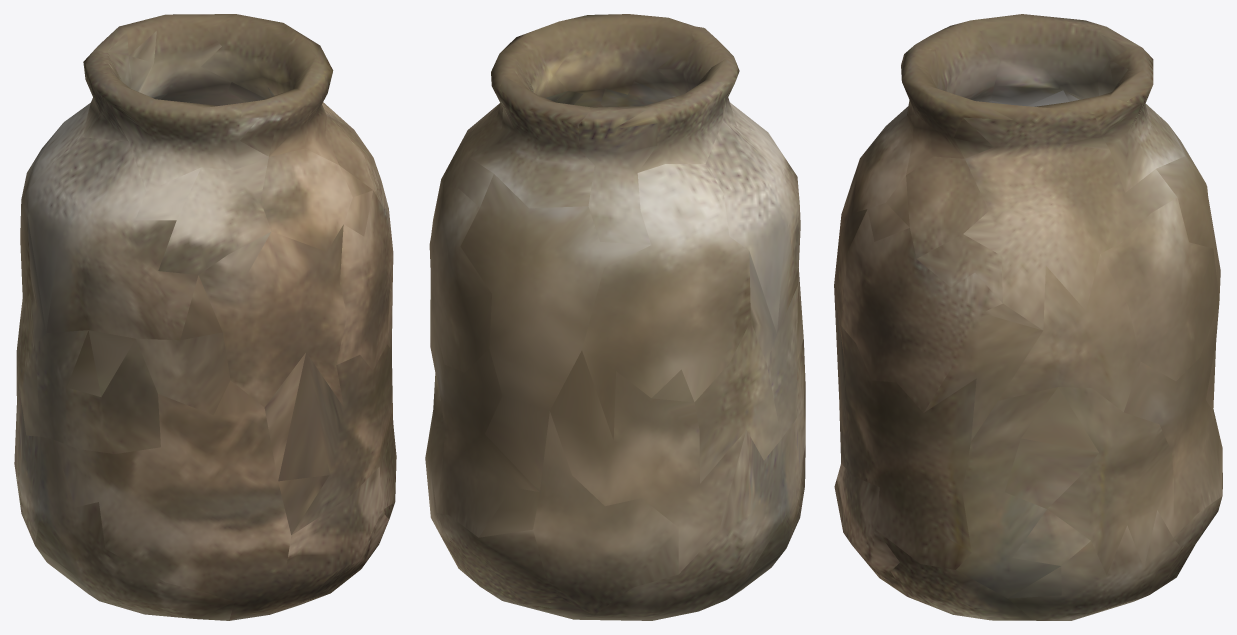
Rendered from MaterialPlace_06.glb.
The picture shows the model from 3 angles, left to right: view 1: azimuth 30°, elevation 25°; view 2: azimuth 150°, elevation 25°; view 3: azimuth 270°, elevation 25°; orthographic projection.
Parts seen in each view (by area): view 1: Meshy_AI_Row_of_Earthy_Ceramic_0509115641_texture.005; view 2: Meshy_AI_Row_of_Earthy_Ceramic_0509115641_texture.005; view 3: Meshy_AI_Row_of_Earthy_Ceramic_0509115641_texture.005.
Part boxes in pixels (<box>): Meshy_AI_Row_of_Earthy_Ceramic_0509115641_texture.005: <box>14,14,396,620</box>; Meshy_AI_Row_of_Earthy_Ceramic_0509115641_texture.005: <box>425,14,805,620</box>; Meshy_AI_Row_of_Earthy_Ceramic_0509115641_texture.005: <box>834,14,1222,620</box>.
Bounding box in the file's own units: 0.2496 × 0.3636 × 0.2539.
1 material, 1 textured.
